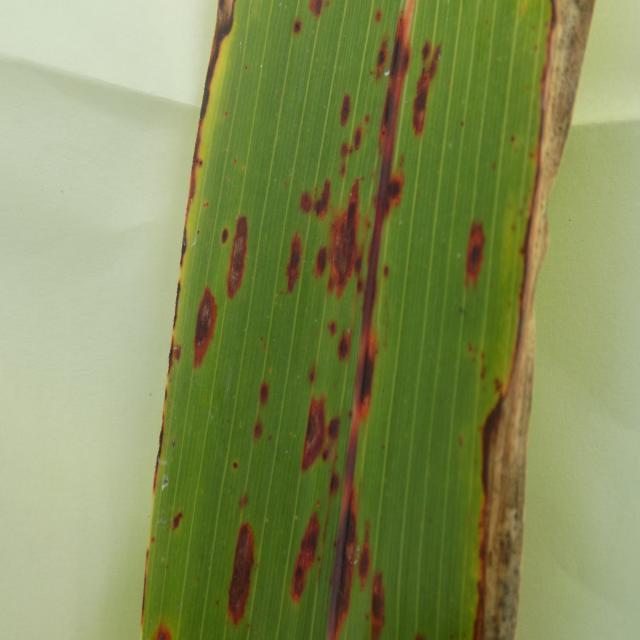millet_rust: (138, 0, 594, 640)
